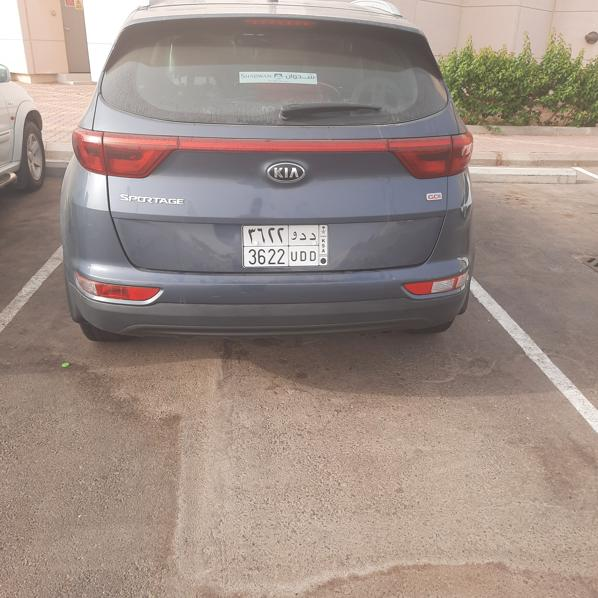numberplate: (242, 225, 328, 267)
